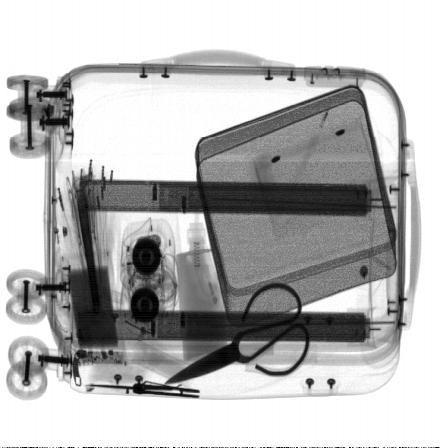Knife: (83, 376, 202, 401)
Powerbank: (61, 249, 129, 369)
Scissors: (161, 282, 310, 389)
